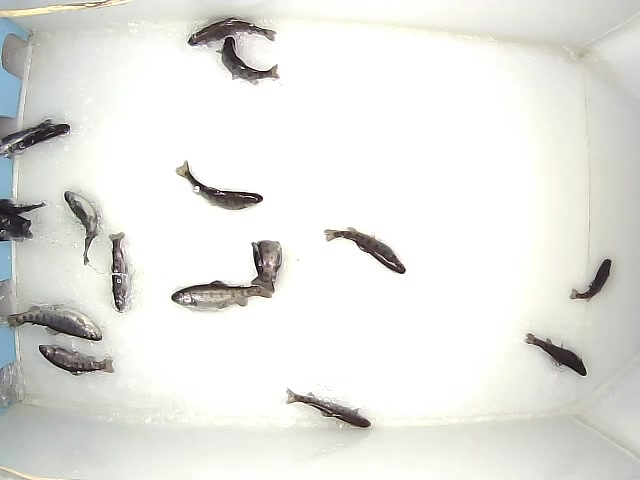fish: (175, 160, 263, 210), (324, 227, 406, 275), (285, 387, 371, 428), (7, 306, 102, 341), (171, 280, 272, 311), (215, 37, 280, 85), (524, 333, 587, 377), (188, 17, 277, 47), (64, 191, 98, 265), (38, 344, 115, 376), (1, 124, 70, 157), (570, 258, 613, 303), (251, 240, 287, 293), (108, 232, 131, 313), (1, 119, 53, 152)
